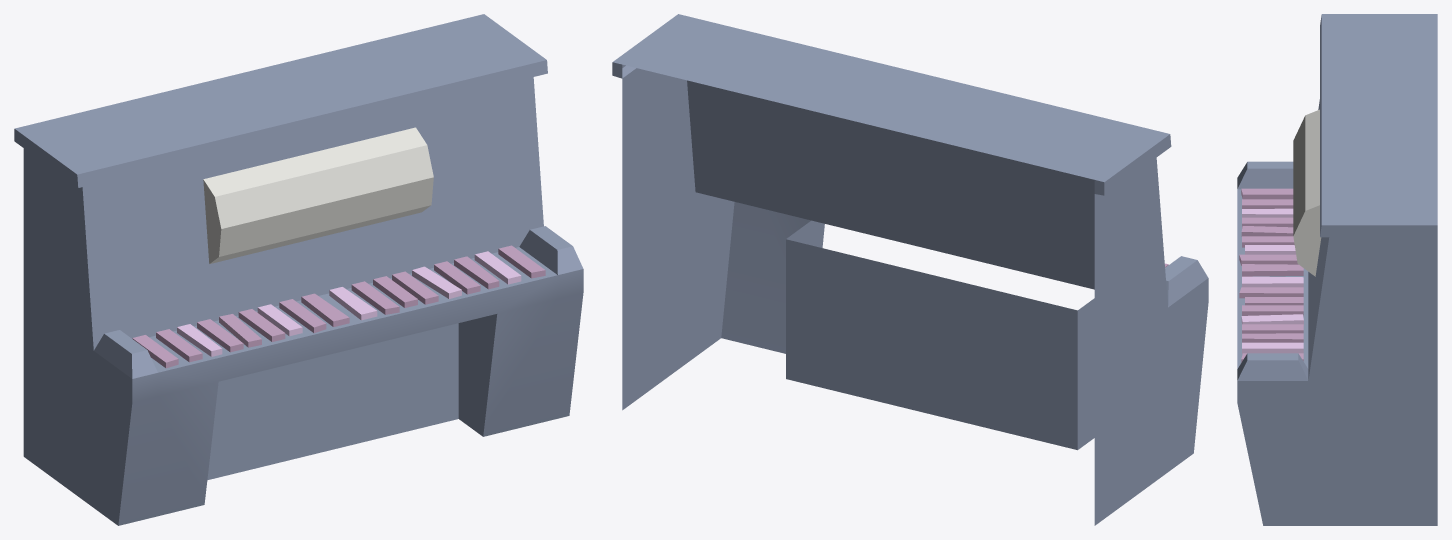
The model's file is Piano.fbx.
3 renders of one model, left to right at view 1: azimuth 30°, elevation 25°; view 2: azimuth 150°, elevation 25°; view 3: azimuth 270°, elevation 25°, orthographic. The views are drawn at different scales.
Parts seen in each view (by area): view 1: polySurface9; view 2: polySurface9; view 3: polySurface9.
Boxes of the visible parts, <box> form: polySurface9: <box>14,14,583,525</box>; polySurface9: <box>612,14,1208,525</box>; polySurface9: <box>1237,14,1437,525</box>.
Bounding box in the file's own units: 15.17 × 10.2 × 6.07.
